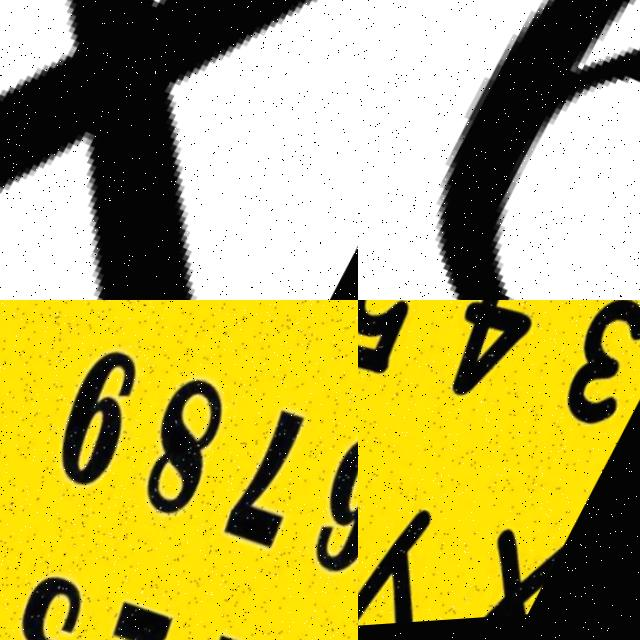1: (136, 603, 302, 640)
2: (49, 580, 216, 640)
3: (530, 300, 640, 466), (0, 548, 128, 640)
4: (407, 300, 583, 445)
5: (358, 300, 473, 432)
6: (274, 420, 358, 613)
7: (187, 377, 357, 585)
8: (95, 356, 268, 565)
9: (367, 0, 640, 300), (12, 313, 186, 528)
X: (0, 0, 358, 300)
